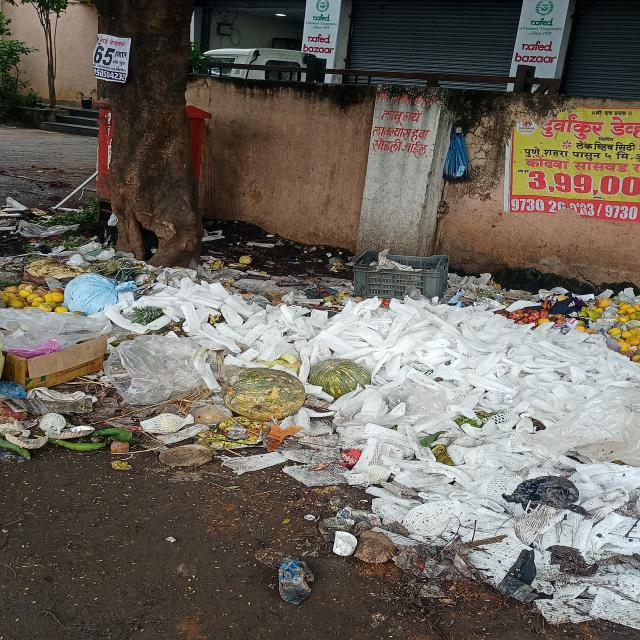garbage: (8, 249, 640, 484), (367, 497, 640, 640)
